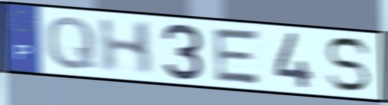3: (159, 21, 206, 82)
4: (273, 30, 315, 90)
E: (211, 26, 264, 87)
H: (97, 17, 155, 77)
Q: (45, 14, 98, 72)
S: (323, 35, 373, 94)
